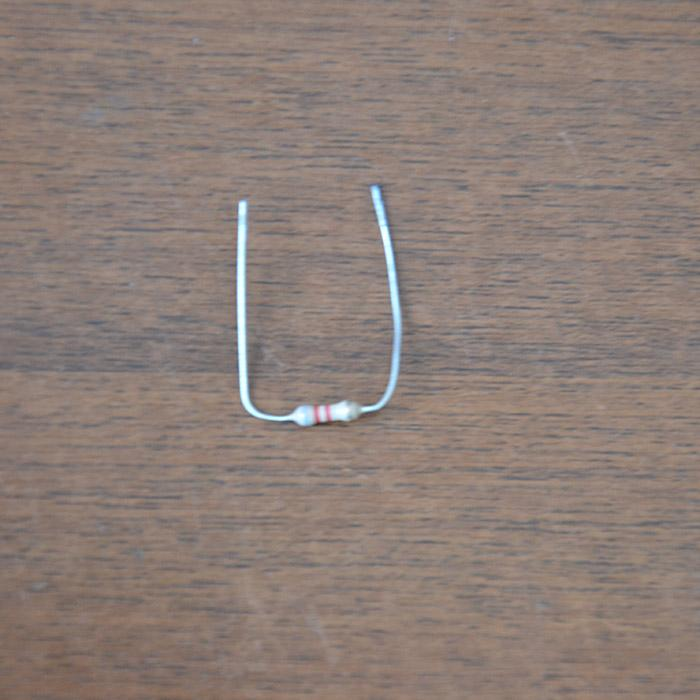resistor: (290, 398, 364, 427)
